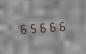five: (28, 21, 37, 34)
six: (18, 21, 27, 35), (58, 18, 67, 32), (38, 20, 47, 33), (48, 19, 57, 32)
